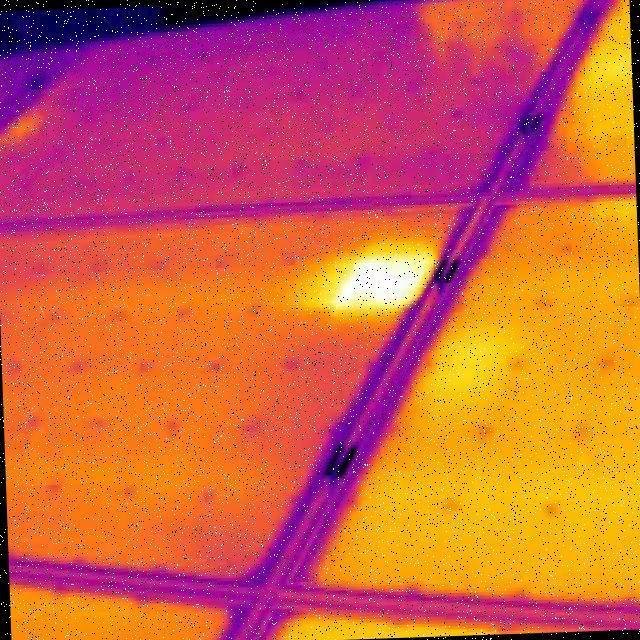Hotspot: (331, 252, 439, 310)
